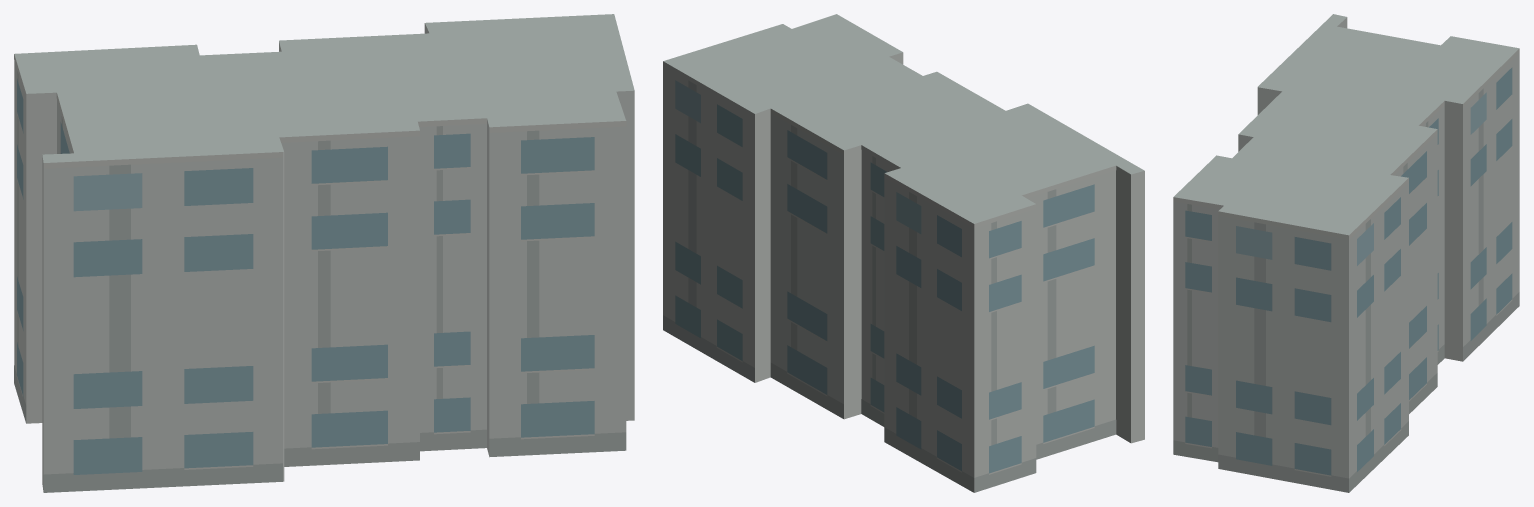
File: survey-upis-32524132.glb
3 views of the same model, side by side, from view 1: azimuth 30°, elevation 25°; view 2: azimuth 150°, elevation 25°; view 3: azimuth 270°, elevation 25° (orthographic). The views are drawn at different scales.
Parts seen in each view (by area): view 1: survey-upis-32524132.tmp; view 2: survey-upis-32524132.tmp; view 3: survey-upis-32524132.tmp.
Boxes of the visible parts, box(x1,y1,x2,y2) form: survey-upis-32524132.tmp: box(14, 14, 634, 492); survey-upis-32524132.tmp: box(663, 14, 1144, 492); survey-upis-32524132.tmp: box(1173, 14, 1519, 492).
Size of the model in its own units: 26.18 by 14.2 by 17.31.
